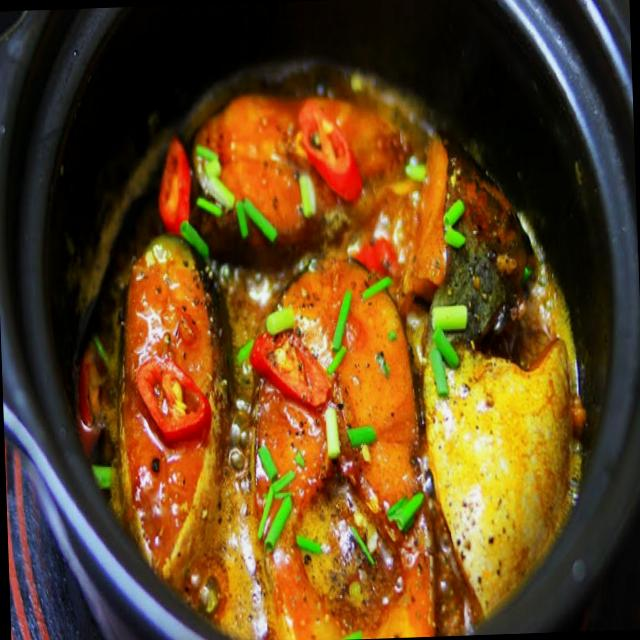ca kho: (111, 98, 568, 637)
